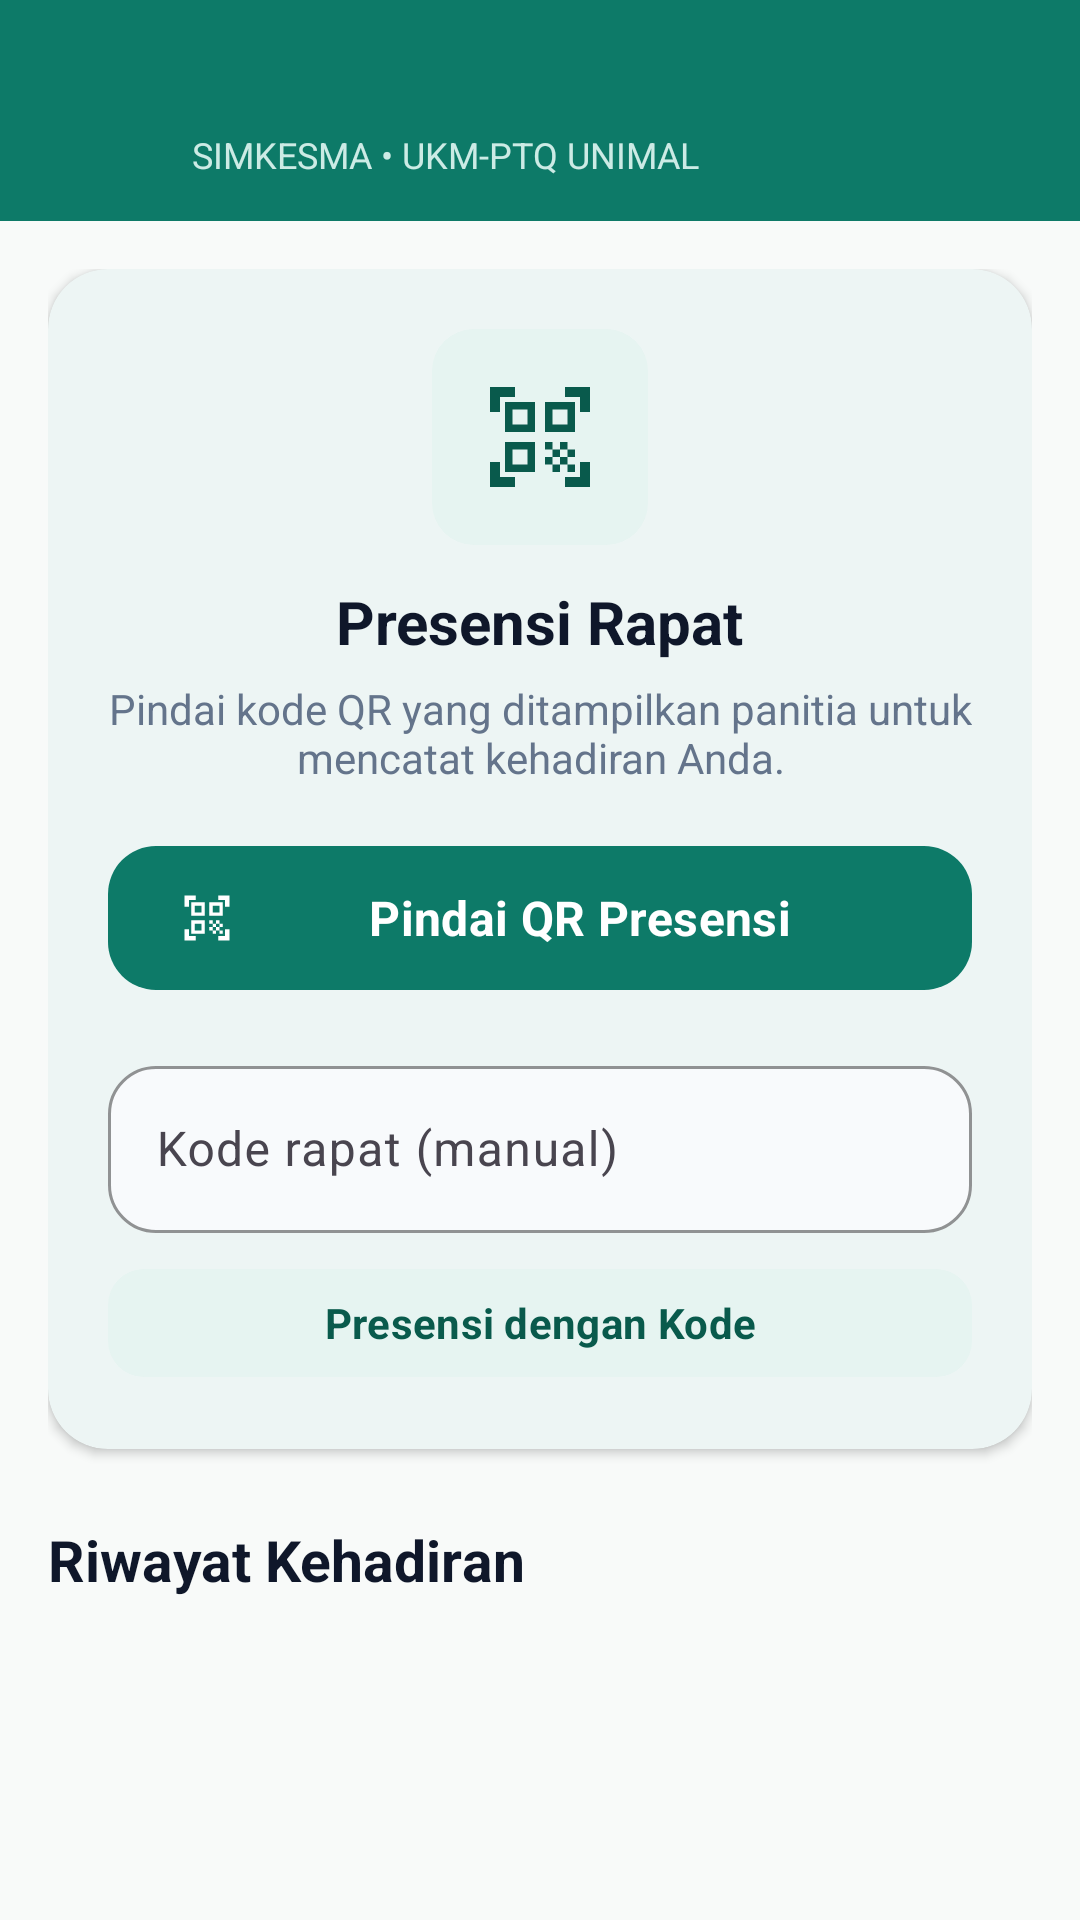

Named icons in this screenshot (1080×1920) and their centers, [x,y]:
qr code scanner: [540,437]
